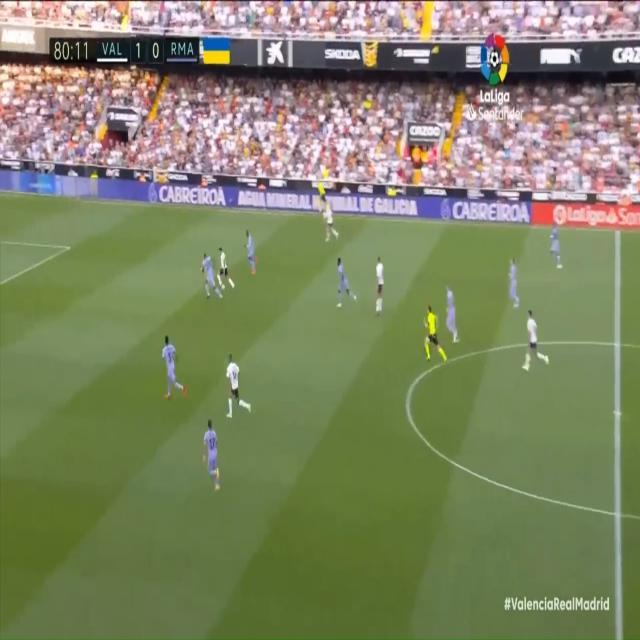ball: (221, 282, 226, 290)
player: (221, 352, 255, 424), (521, 303, 550, 375), (200, 418, 225, 493), (160, 334, 186, 401), (213, 240, 236, 293), (335, 254, 358, 307), (198, 254, 222, 302), (442, 282, 459, 347), (507, 251, 522, 312), (241, 227, 259, 277), (548, 217, 563, 269), (374, 248, 385, 314), (323, 200, 338, 241)
referee: (419, 298, 448, 365)
